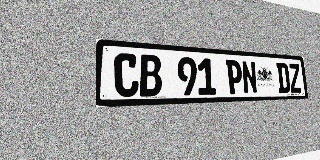1: (197, 58, 216, 95)
9: (177, 57, 198, 96)
B: (139, 54, 162, 96)
C: (114, 53, 139, 97)
D: (276, 63, 291, 93)
N: (241, 60, 258, 94)
P: (226, 60, 243, 94)
Z: (288, 63, 302, 93)
